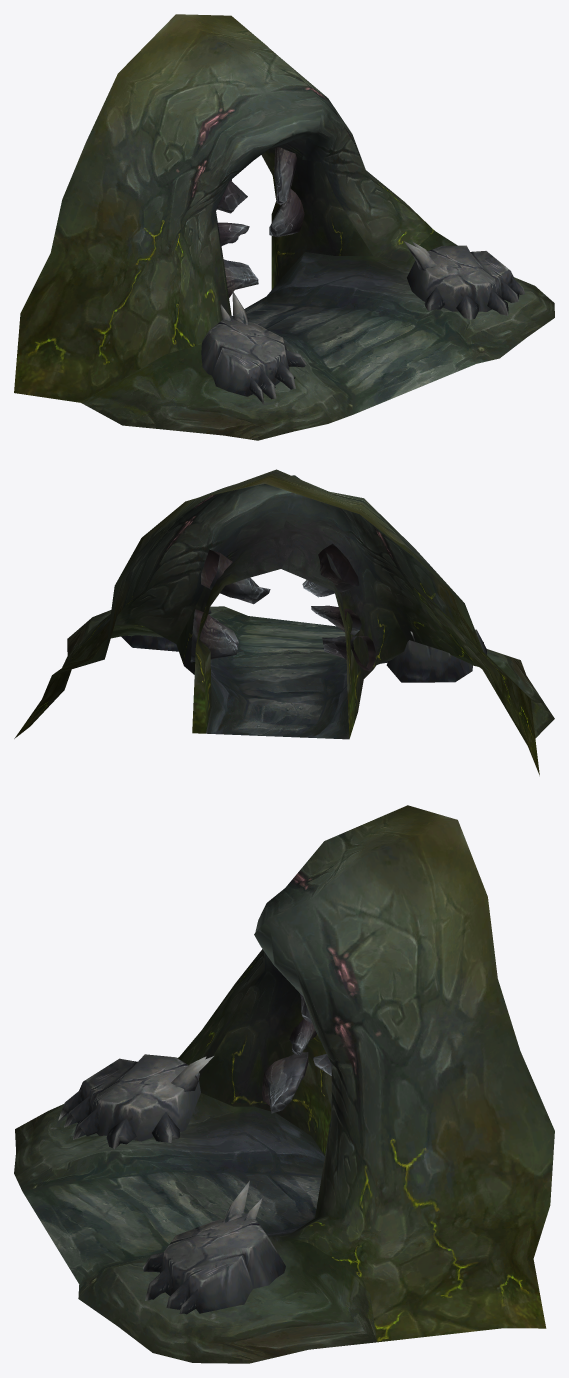
File: environment_stone_dongkou_002_a.FBX
3 views of the same model, one above another, from view 1: azimuth 30°, elevation 25°; view 2: azimuth 150°, elevation 25°; view 3: azimuth 270°, elevation 25° (orthographic). The views are drawn at different scales.
Visible parts, largest first — view 1: environment_stone_dongkou_002_a1, environment_stone_dongkou_002_b1, environment_stone_dongkou_002_c2, environment_stone_dongkou_002_c1, environment_stone_dongkou_002_b3, environment_stone_dongkou_002_b2; view 2: environment_stone_dongkou_002_a1, environment_stone_dongkou_002_b1, environment_stone_dongkou_002_b3, environment_stone_dongkou_002_b2, environment_stone_dongkou_002_c1, environment_stone_dongkou_002_c2; view 3: environment_stone_dongkou_002_a1, environment_stone_dongkou_002_b1, environment_stone_dongkou_002_c2, environment_stone_dongkou_002_c1, environment_stone_dongkou_002_b2.
Boxes of the visible parts, x1,y1,x2,y2 form: environment_stone_dongkou_002_a1: (14,14,434,402); environment_stone_dongkou_002_b1: (81,231,554,440); environment_stone_dongkou_002_c2: (404,241,524,319); environment_stone_dongkou_002_c1: (201,291,306,404); environment_stone_dongkou_002_b3: (269,147,304,236); environment_stone_dongkou_002_b2: (217,179,258,297); environment_stone_dongkou_002_a1: (14,469,539,775); environment_stone_dongkou_002_b1: (67,606,554,739); environment_stone_dongkou_002_b3: (190,549,270,662); environment_stone_dongkou_002_b2: (302,543,375,671); environment_stone_dongkou_002_c1: (381,629,486,682); environment_stone_dongkou_002_c2: (121,608,218,651); environment_stone_dongkou_002_a1: (178,805,554,1342); environment_stone_dongkou_002_b1: (14,1057,376,1363); environment_stone_dongkou_002_c2: (143,1180,285,1314); environment_stone_dongkou_002_c1: (58,1054,213,1149); environment_stone_dongkou_002_b2: (262,994,316,1113).
Bounding box in the file's own units: 187 × 103 × 136.
Materials: 3 (3 with a texture image).
